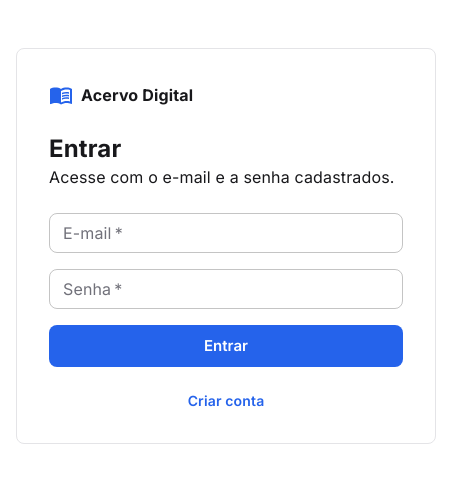
Test: mostra o erro da API no login
In the field labelled "E-mail *": (226, 233) [49,213,403,253], type "ana@acervo.com"
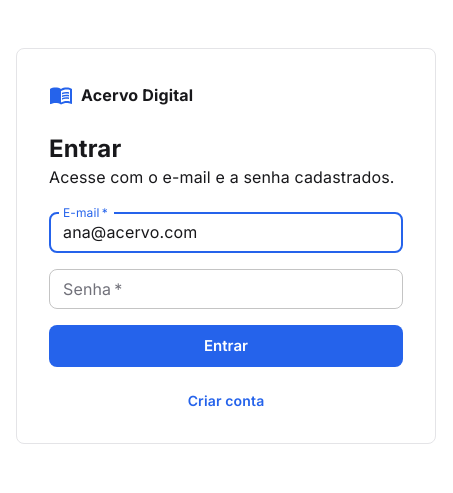
In the password field labelled "Senha *": (226, 289) [49,269,403,309], type "errada"
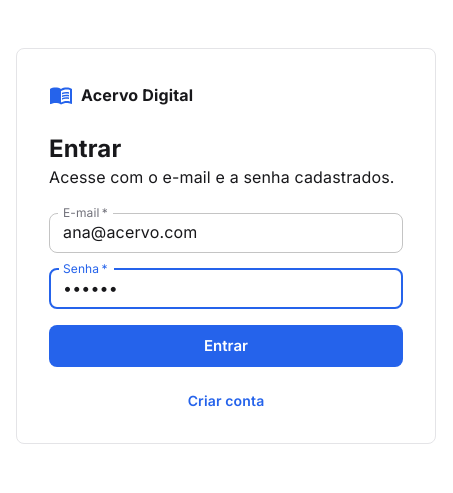
Click the button "Entrar": (226, 346) [49,325,403,367]
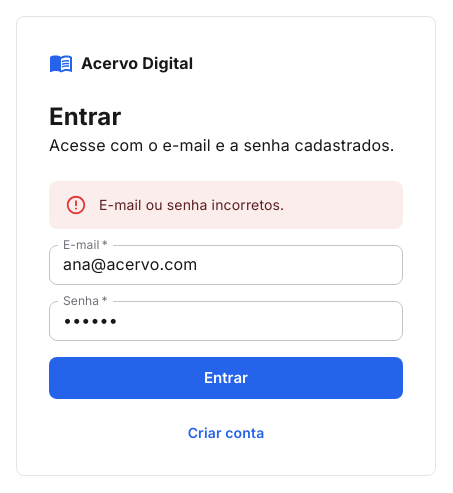
Expected: the text "E-mail ou senha incorretos." is shown, [99,196,284,213]
